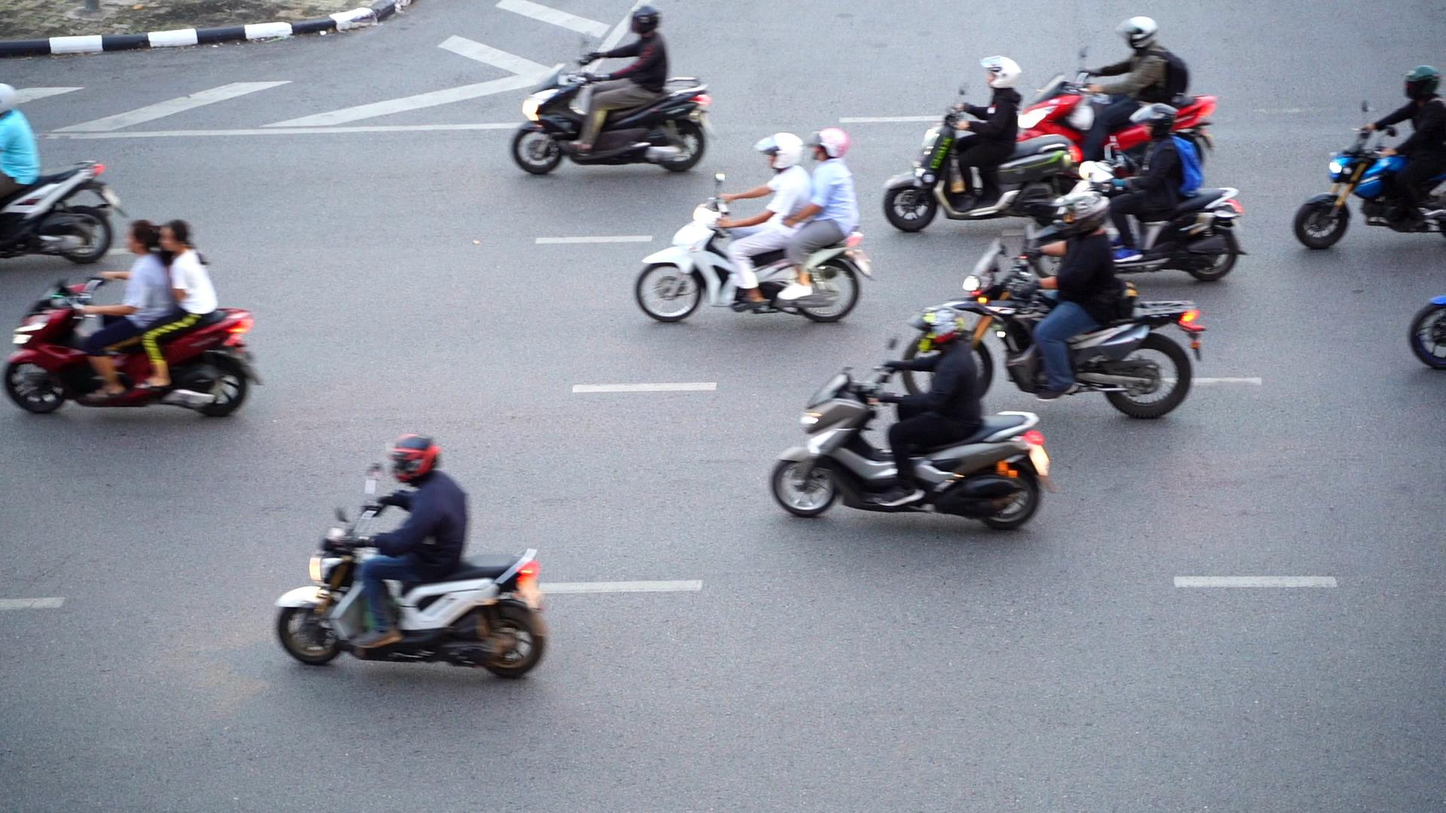driver: (900, 189, 1207, 420), (275, 432, 548, 678), (768, 306, 1054, 527), (4, 218, 262, 417), (634, 127, 872, 323), (1030, 102, 1250, 281), (512, 5, 715, 176), (882, 55, 1079, 231), (1016, 16, 1217, 179), (1294, 64, 1446, 249)
helmet: (1049, 190, 1113, 240), (906, 306, 964, 354), (388, 433, 440, 483), (1128, 103, 1180, 140), (755, 132, 805, 170), (805, 127, 851, 161), (979, 56, 1023, 90), (1114, 17, 1159, 50), (1405, 64, 1440, 101), (630, 5, 661, 34)
no-helmet: (123, 220, 155, 254), (158, 219, 190, 253)
